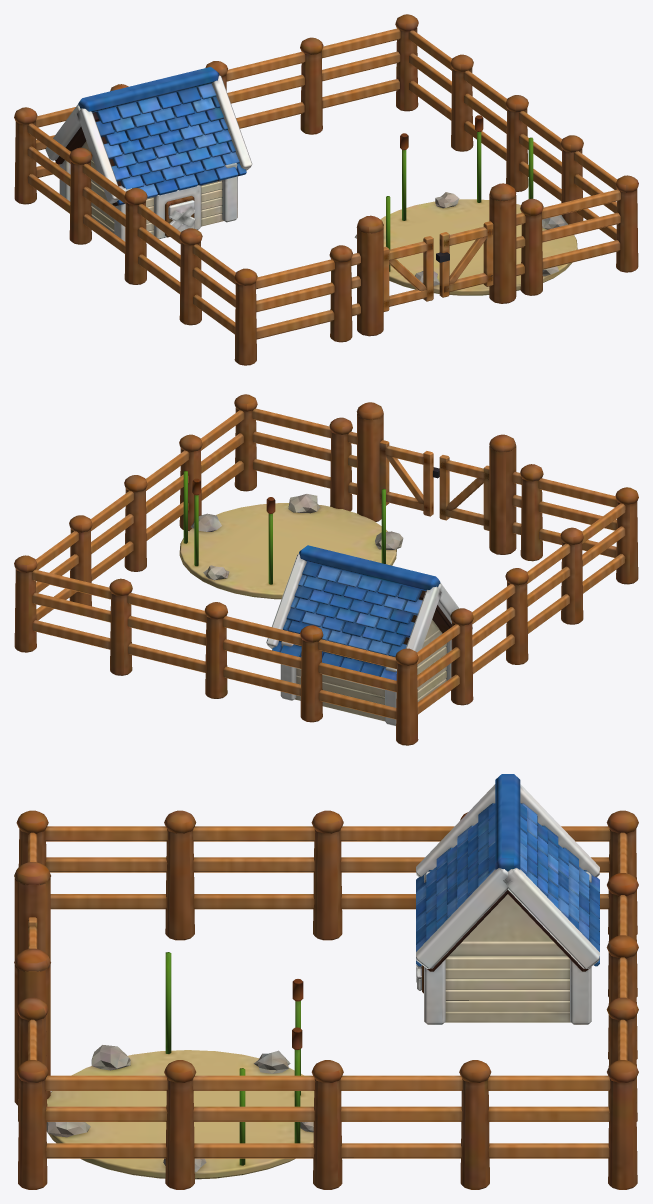
The model's file is emden_pen.glb.
3 views of the same model, one above another, from view 1: azimuth 30°, elevation 25°; view 2: azimuth 150°, elevation 25°; view 3: azimuth 270°, elevation 25° (orthographic). The views are drawn at different scales.
Visible parts, largest first — view 1: emden_pen, gate1, gate0; view 2: emden_pen, gate1, gate0; view 3: emden_pen.
Part boxes in pixels (box(x1,y1,x2,y2)): emden_pen: box(14, 14, 638, 365); gate1: box(436, 221, 493, 297); gate0: box(383, 236, 433, 311); emden_pen: box(14, 394, 638, 745); gate1: box(379, 440, 439, 516); gate0: box(439, 455, 489, 530); emden_pen: box(14, 774, 638, 1189).
Bounding box in the file's own units: 2 × 0.615 × 2.01.
Materials: 1 (1 with a texture image).
